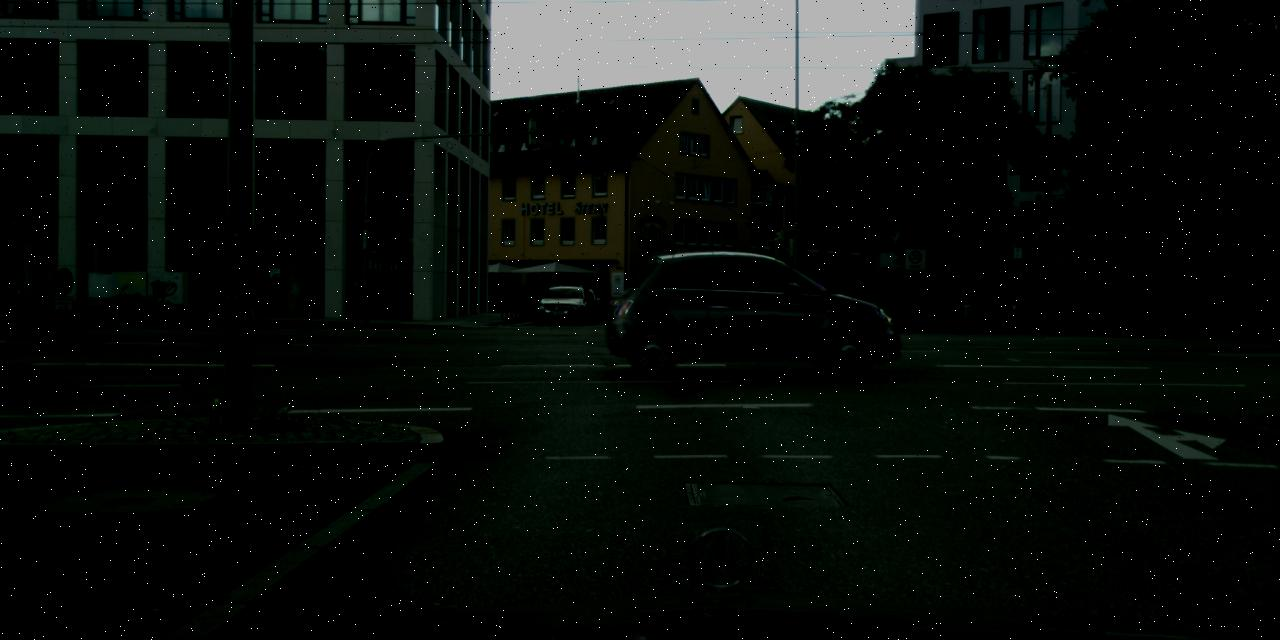ped: (350, 272, 370, 325), (404, 280, 418, 312), (952, 291, 962, 319)
